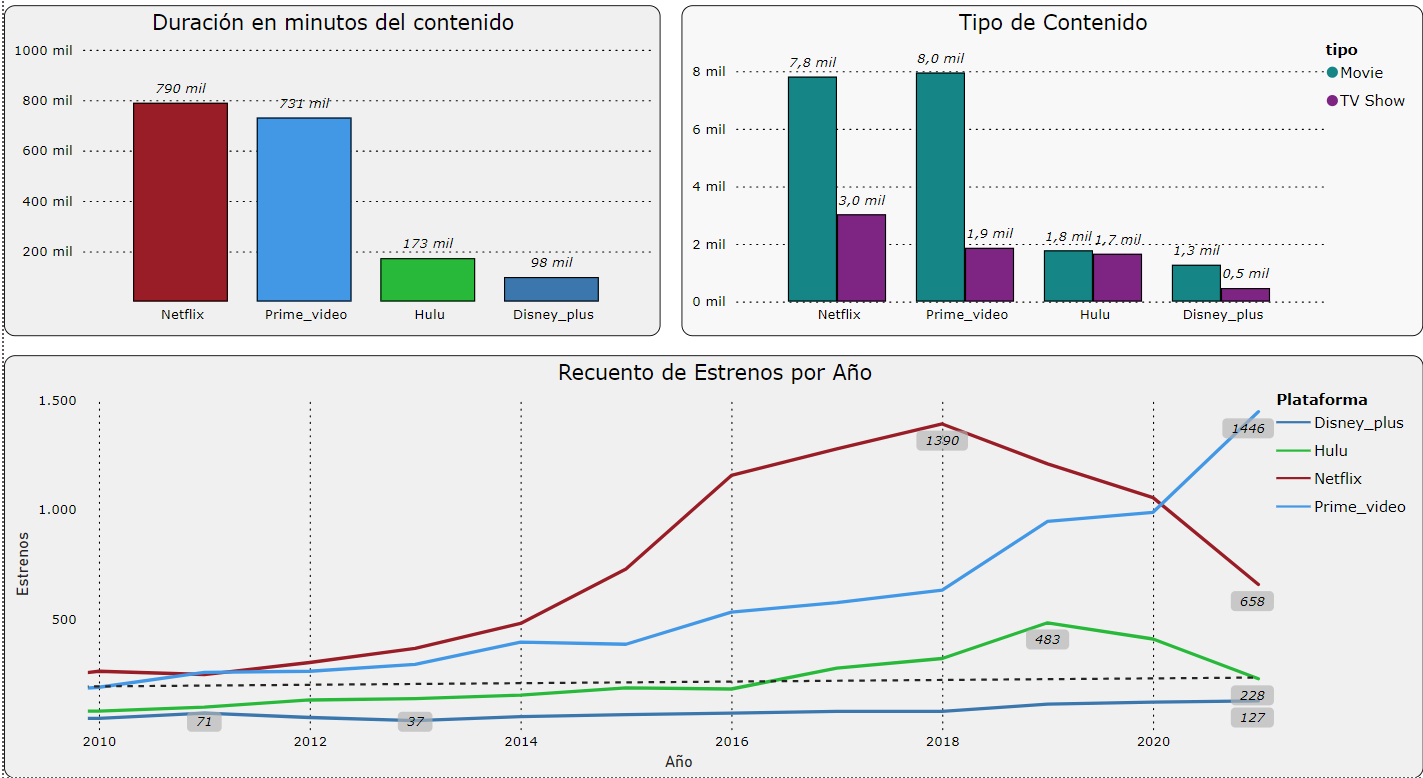

This screenshot's page, from the dashboard's own definition file:
{"tool":"powerbi","page":{"name":"Página 1","canvas":[1280,720],"ordinal":0},"visuals":[{"type":"columnChart","title":"Duración en minutos del contenido","fields":{"Category":["PowerBIuse.Plataforma"],"Y":["Sum(PowerBIuse.duracion)"]},"box":[0,23.2,591.9,298.4],"z":0},{"type":"lineChart","title":"Recuento de Estrenos por Año","fields":{"Series":["PowerBIuse.Plataforma"],"Y":["CountNonNull(PowerBIuse.año_plataforma)"],"Category":["PowerBIuse.año_estreno"]},"box":[0,338.7,1280.3,381.5],"z":1000},{"type":"clusteredColumnChart","title":"Tipo de Contenido","fields":{"Category":["PowerBIuse.Plataforma"],"Series":["PowerBIuse.tipo"],"Y":["CountNonNull(PowerBIuse.tipo)"]},"box":[611.4,23.2,668.9,298.4],"z":2000}]}

Visuals, with their boxes in screenshot pixels (x1, y1, x2, y2), scaled from the page's 1280x720 canvas onto the 1423x778 screenshot:
"Duración en minutos del contenido" columnChart: bbox=(0, 25, 658, 348)
"Recuento de Estrenos por Año" lineChart: bbox=(0, 366, 1422, 777)
"Tipo de Contenido" clusteredColumnChart: bbox=(680, 25, 1422, 348)
